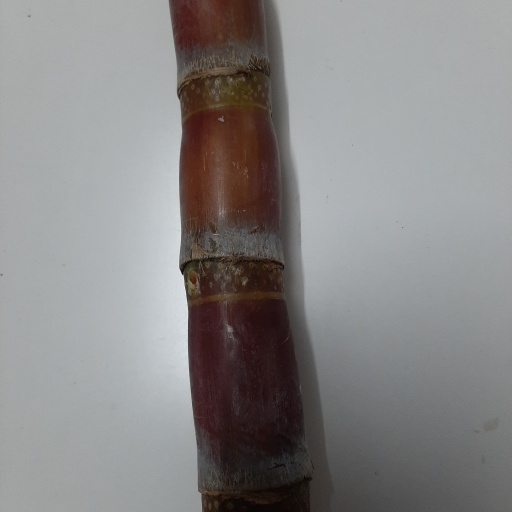Damage_Bud: (184, 266, 200, 291)
